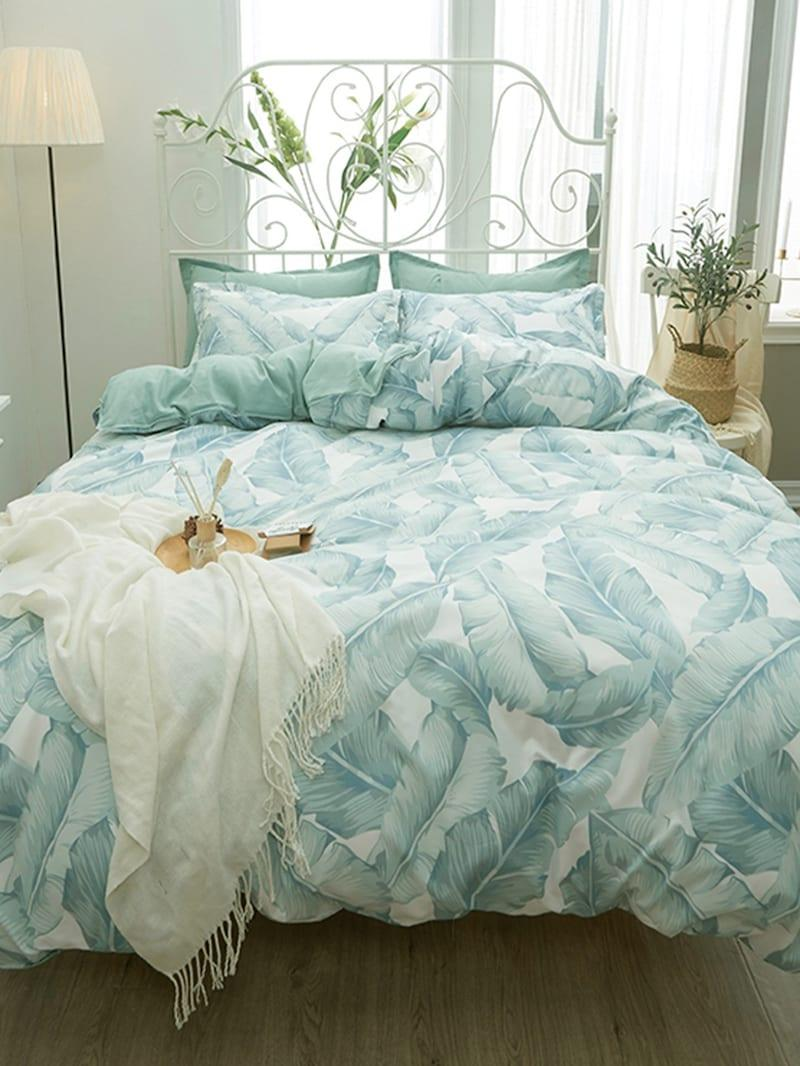bed: (5, 197, 800, 878)
